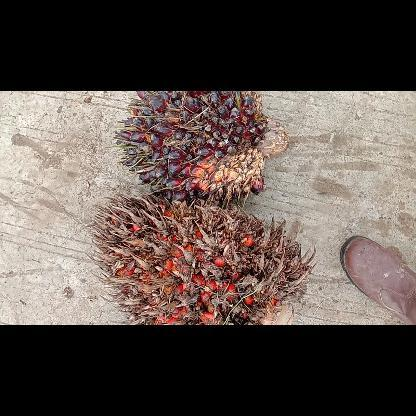TBS mentah: (110, 91, 288, 204)
Terlalu masak: (86, 194, 314, 324)
